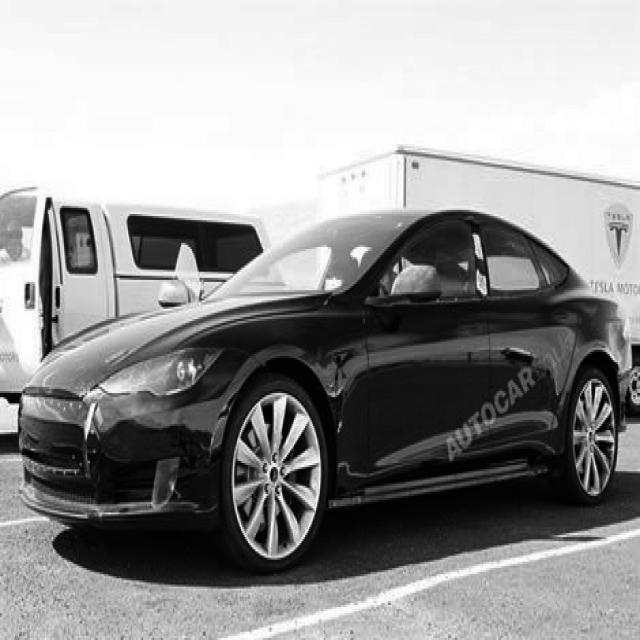car: (16, 206, 634, 574)
